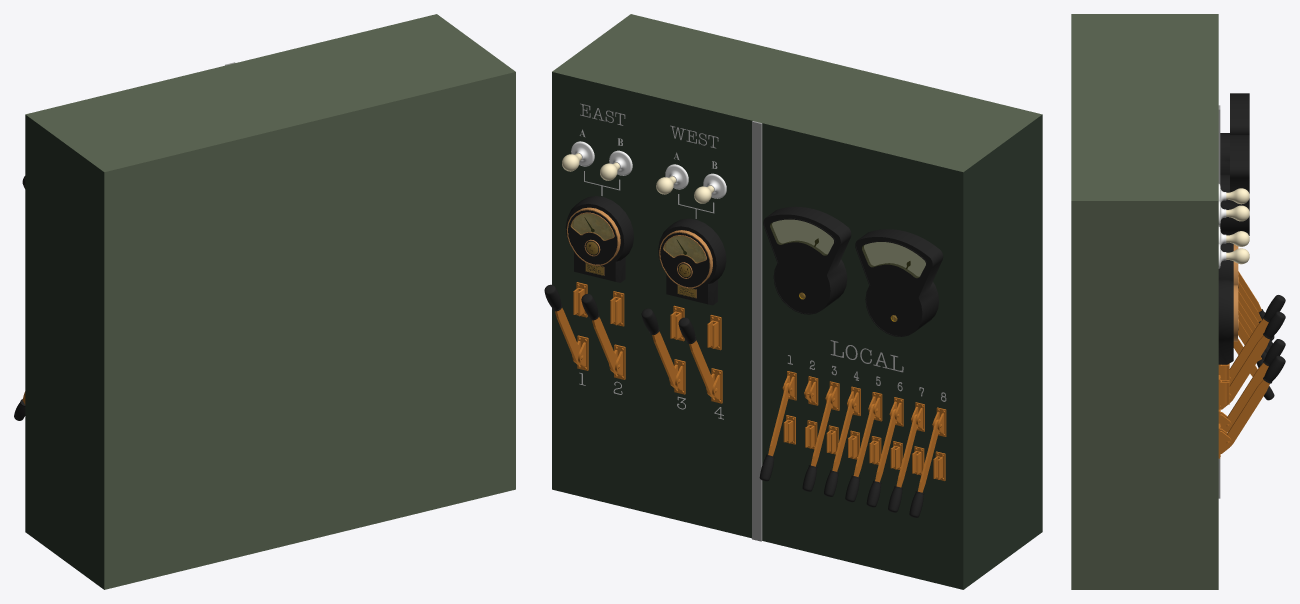
Rendered from Powerswitch.FBX.
3 renders of one model, left to right at view 1: azimuth 30°, elevation 25°; view 2: azimuth 150°, elevation 25°; view 3: azimuth 270°, elevation 25°, orthographic. The views are drawn at different scales.
Visible parts, largest first — view 1: Mesh159; view 2: Mesh159, Mesh135, Mesh134, Mesh146, Mesh141, Mesh116, Mesh90, Mesh128, Mesh122, Mesh67, Mesh12, Mesh78 (+4 smaller); view 3: Mesh159, Mesh135, Mesh141, Mesh134, Mesh128, Mesh116, Mesh122, Mesh90, Mesh146, Mesh133, Mesh127, Mesh157.
Boxes of the visible parts, <box> form: Mesh159: <box>25,14,515,589</box>; Mesh159: <box>552,14,1042,589</box>; Mesh135: <box>763,206,851,314</box>; Mesh134: <box>855,229,943,336</box>; Mesh146: <box>658,218,726,305</box>; Mesh141: <box>565,196,633,282</box>; Mesh116: <box>641,308,677,386</box>; Mesh90: <box>678,317,714,395</box>; Mesh128: <box>544,284,579,363</box>; Mesh122: <box>581,293,616,372</box>; Mesh67: <box>888,414,917,512</box>; Mesh12: <box>845,404,874,502</box>; Mesh78: <box>909,419,938,517</box>; Mesh159: <box>1071,14,1220,589</box>; Mesh135: <box>1220,135,1249,235</box>; Mesh141: <box>1218,279,1238,364</box>; Mesh134: <box>1220,93,1249,174</box>; Mesh128: <box>1227,355,1285,445</box>; Mesh116: <box>1229,311,1285,401</box>; Mesh122: <box>1227,339,1285,426</box>; Mesh90: <box>1229,295,1285,382</box>; Mesh146: <box>1218,242,1238,288</box>; Mesh133: <box>1218,375,1229,409</box>; Mesh127: <box>1218,423,1231,458</box>; Mesh157: <box>1226,248,1249,264</box>.
Size of the model in its own units: 86.63 by 84 by 41.96.
